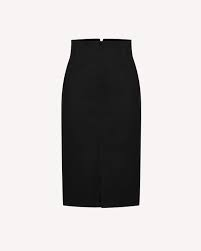F_tailored skirt: (54, 31, 148, 215)
